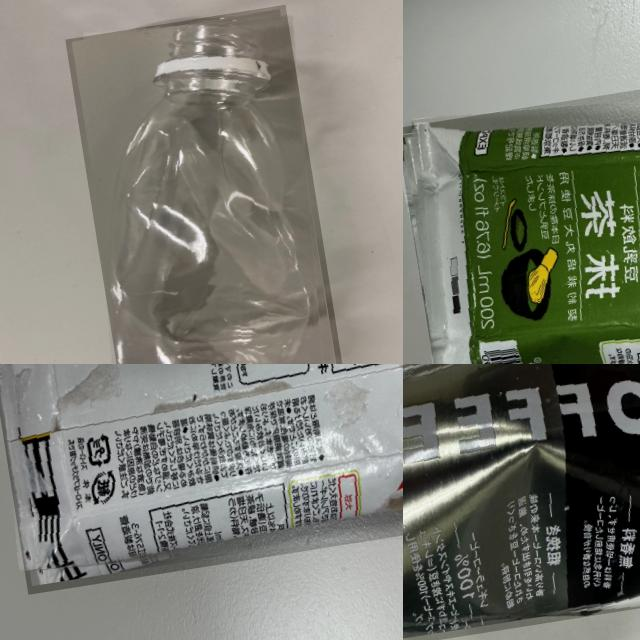Aluminium Foil: (0, 364, 403, 595), (403, 61, 640, 364)
Can: (403, 364, 640, 640)
Transparent Plastic Bottle: (64, 5, 342, 364)
